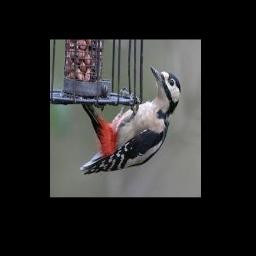Woodpecker: (80, 67, 181, 175)
